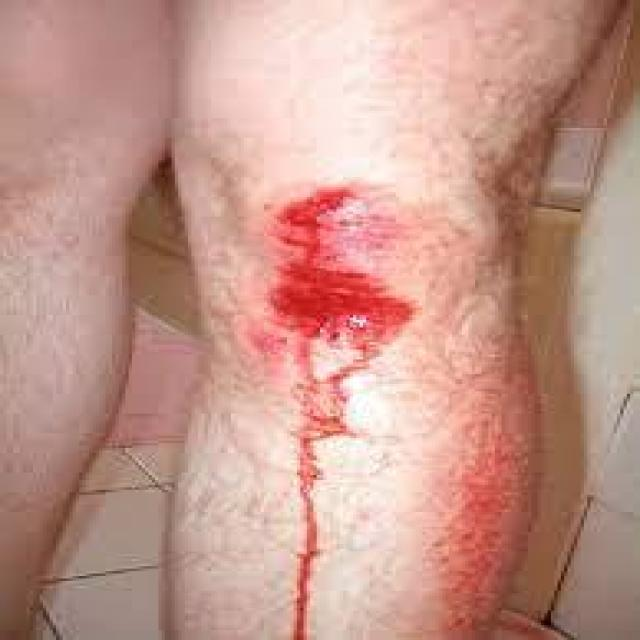Cut: (228, 161, 419, 452)
